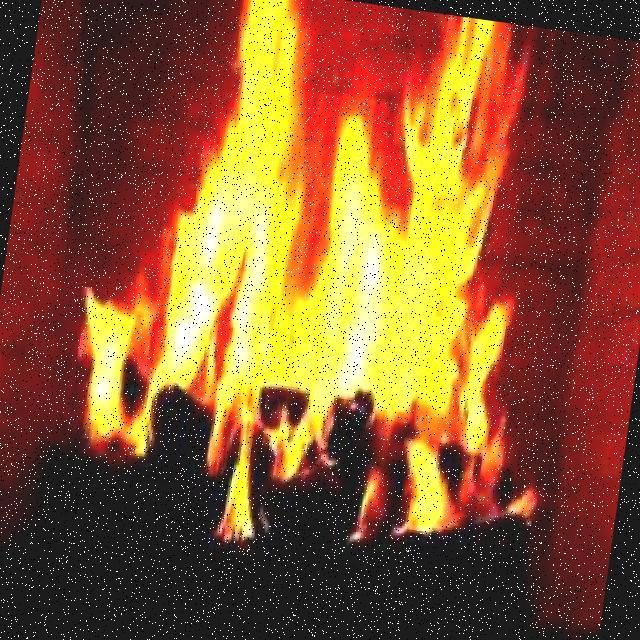Fire: (86, 16, 524, 502)
